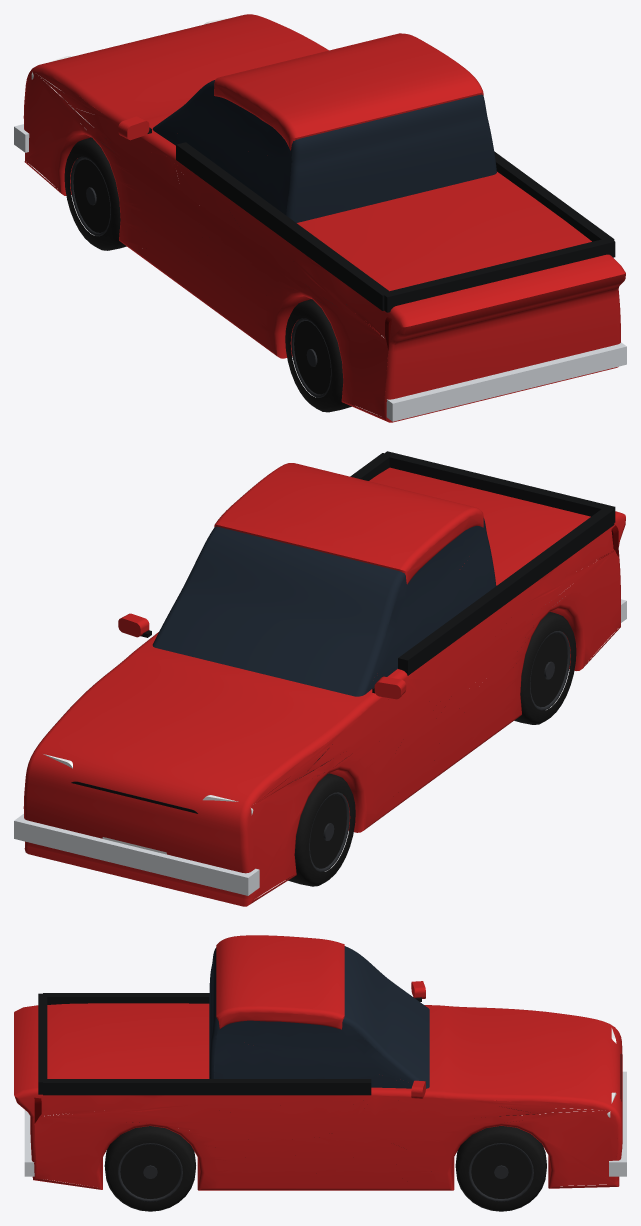
Rendered from pickup.glb.
The picture shows the model from 3 angles, top to bottom: view 1: azimuth 30°, elevation 25°; view 2: azimuth 150°, elevation 25°; view 3: azimuth 270°, elevation 25°; orthographic projection. The views are drawn at different scales.
Visible parts, largest first — view 1: Body, Glass, Trim, Chrome, Tire_RL, Tire_FL, Rim_FL, Rim_RL; view 2: Body, Glass, Trim, Chrome, Tire_FL, Tire_RL, Rim_FL, Rim_RL; view 3: Body, Glass, Trim, Tire_FR, Tire_RR, Chrome, Rim_FR, Rim_RR.
Part boxes in pixels (x1,y1,x2,y2): Body: [23, 14, 625, 422]; Glass: [152, 80, 496, 222]; Trim: [147, 127, 615, 312]; Chrome: [14, 92, 626, 421]; Tire_RL: [285, 299, 352, 412]; Tire_FL: [64, 137, 126, 250]; Rim_FL: [70, 156, 110, 236]; Rim_RL: [291, 318, 331, 397]; Body: [23, 463, 625, 906]; Glass: [152, 518, 496, 696]; Trim: [71, 451, 615, 813]; Chrome: [14, 588, 626, 895]; Tire_FL: [286, 770, 355, 886]; Tire_RL: [514, 612, 576, 724]; Rim_FL: [309, 792, 349, 872]; Rim_RL: [530, 631, 570, 710]; Body: [14, 935, 622, 1190]; Glass: [209, 946, 429, 1088]; Trim: [38, 993, 621, 1101]; Tire_FR: [455, 1126, 546, 1211]; Tire_RR: [104, 1122, 195, 1211]; Chrome: [24, 1071, 626, 1176]; Rim_FR: [468, 1143, 533, 1201]; Rim_RR: [118, 1143, 182, 1201].
Bounding box in the file's own units: 2.29 × 1.92 × 5.42.
